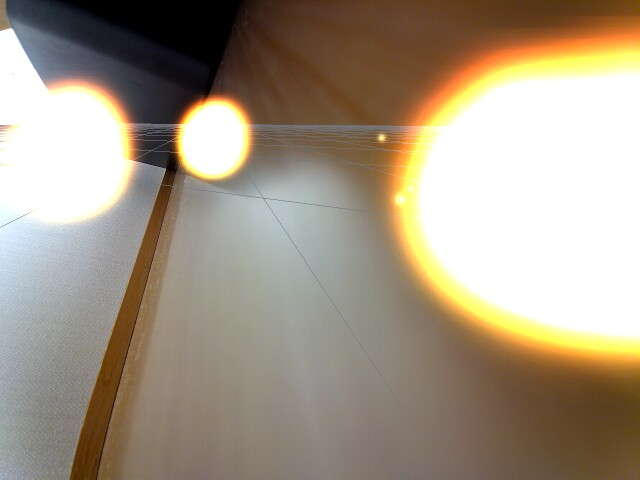fire: (398, 43, 638, 360), (2, 79, 132, 222), (174, 96, 251, 181)
